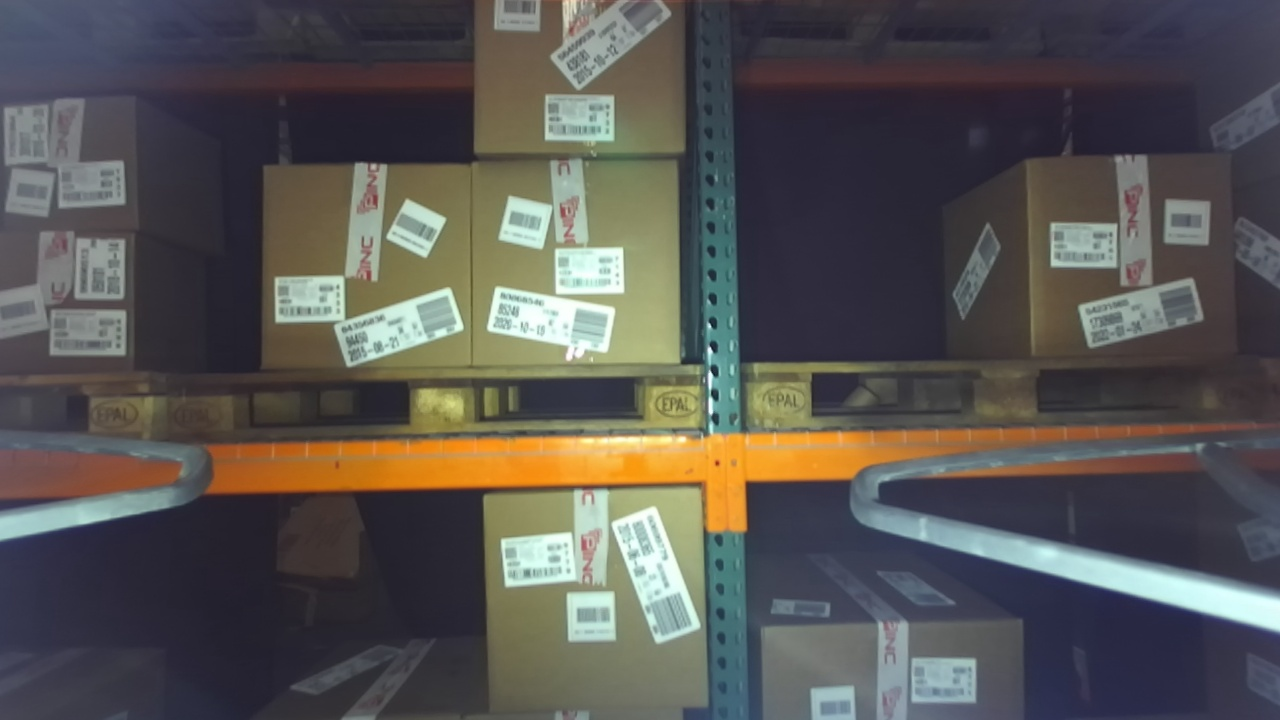box: (467, 476, 722, 720), (454, 138, 713, 377), (241, 144, 481, 394), (1016, 139, 1246, 364), (460, 2, 704, 177), (3, 84, 160, 246), (1, 212, 138, 387)
